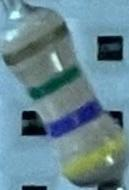Blue: (46, 97, 105, 139)
Green: (29, 63, 81, 99)
Side-Silver: (2, 22, 69, 67)
Yellow: (62, 136, 126, 181)
